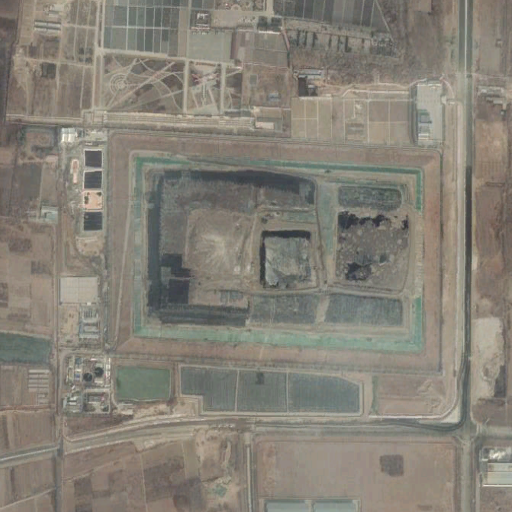lf: (144, 168, 424, 350)
